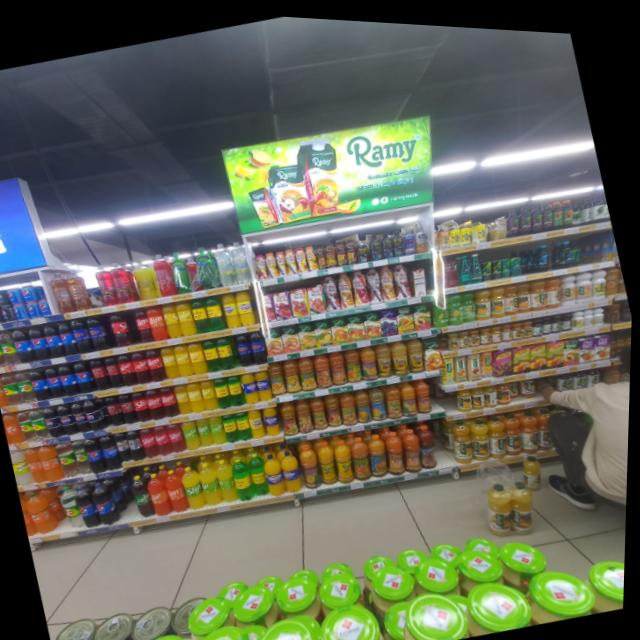7up_plastique: (58, 481, 90, 530), (54, 439, 84, 478), (72, 436, 96, 475), (0, 326, 22, 365), (16, 370, 40, 404)
hamoud_plastique: (129, 469, 160, 518), (197, 456, 227, 506), (163, 464, 193, 513), (146, 467, 176, 516), (214, 453, 243, 501), (231, 452, 260, 500), (247, 447, 275, 495), (182, 464, 210, 507), (65, 270, 93, 311), (520, 446, 548, 485), (110, 309, 136, 349), (146, 301, 172, 340), (203, 291, 229, 330), (175, 296, 200, 335), (215, 332, 241, 369), (190, 293, 214, 332), (162, 299, 186, 337), (133, 305, 157, 343), (221, 288, 245, 326), (202, 334, 226, 371), (235, 286, 259, 323), (167, 418, 192, 453), (130, 347, 154, 383), (119, 389, 142, 426), (145, 346, 169, 381), (140, 424, 164, 459), (188, 338, 211, 374), (147, 386, 170, 422), (153, 421, 177, 455), (174, 341, 197, 376), (160, 382, 183, 417), (131, 387, 154, 422), (106, 392, 129, 426), (90, 357, 113, 391), (126, 426, 148, 461), (200, 375, 222, 409), (160, 343, 182, 377), (186, 377, 208, 411), (196, 412, 218, 446), (214, 373, 236, 407), (226, 370, 248, 404), (117, 351, 139, 385), (183, 416, 205, 449), (209, 411, 231, 444), (115, 429, 137, 462), (235, 407, 257, 439), (174, 380, 195, 412), (223, 409, 244, 441)
ifruit_carton: (454, 347, 471, 376)
ifruit_plastique: (502, 472, 545, 532), (481, 473, 523, 532), (484, 409, 515, 454), (498, 407, 529, 452), (468, 411, 498, 456), (450, 414, 480, 459), (516, 403, 546, 448), (532, 401, 559, 443), (445, 286, 469, 319), (473, 281, 494, 315), (460, 384, 476, 408), (460, 324, 474, 343)
miranda_plastique: (26, 486, 63, 536), (37, 439, 69, 483)
orangina_plastique: (261, 446, 291, 494), (279, 443, 308, 491), (241, 368, 263, 402), (248, 404, 270, 437), (263, 400, 284, 433)
pepsi_plastique: (89, 478, 126, 527), (74, 480, 105, 530), (390, 255, 416, 298), (84, 433, 111, 474), (100, 430, 127, 470), (86, 313, 112, 353), (82, 393, 109, 431), (348, 263, 374, 302), (334, 266, 359, 306), (363, 261, 388, 300), (377, 257, 401, 297), (70, 315, 95, 353), (29, 405, 55, 441), (57, 319, 81, 356), (43, 321, 67, 358), (12, 327, 35, 364), (28, 325, 51, 361), (235, 329, 258, 365), (248, 325, 271, 361)
ramy_carton: (378, 299, 403, 333), (328, 310, 353, 342), (280, 319, 305, 351), (363, 304, 387, 336), (346, 308, 369, 340), (396, 297, 419, 329), (313, 314, 337, 344), (297, 317, 320, 348)
ramy_plastique: (382, 423, 413, 473), (398, 419, 429, 469), (348, 429, 378, 479), (414, 416, 444, 465), (332, 431, 361, 481), (315, 434, 344, 484), (298, 436, 327, 486), (367, 428, 395, 474), (404, 330, 431, 370), (397, 373, 423, 414), (383, 378, 410, 417), (367, 380, 393, 420), (389, 333, 415, 373), (412, 371, 438, 410), (374, 336, 400, 374), (279, 395, 304, 434), (343, 342, 368, 380), (359, 340, 384, 378), (313, 348, 337, 387), (353, 383, 377, 422), (339, 386, 363, 424), (297, 350, 321, 388), (294, 394, 318, 432), (323, 388, 347, 426), (309, 391, 333, 429), (328, 345, 352, 383), (321, 270, 345, 308), (282, 354, 306, 391), (267, 356, 291, 392), (464, 343, 488, 376), (477, 342, 501, 375), (314, 239, 330, 266)
toudja_carton: (492, 338, 517, 370), (511, 337, 536, 368), (530, 334, 553, 364)
